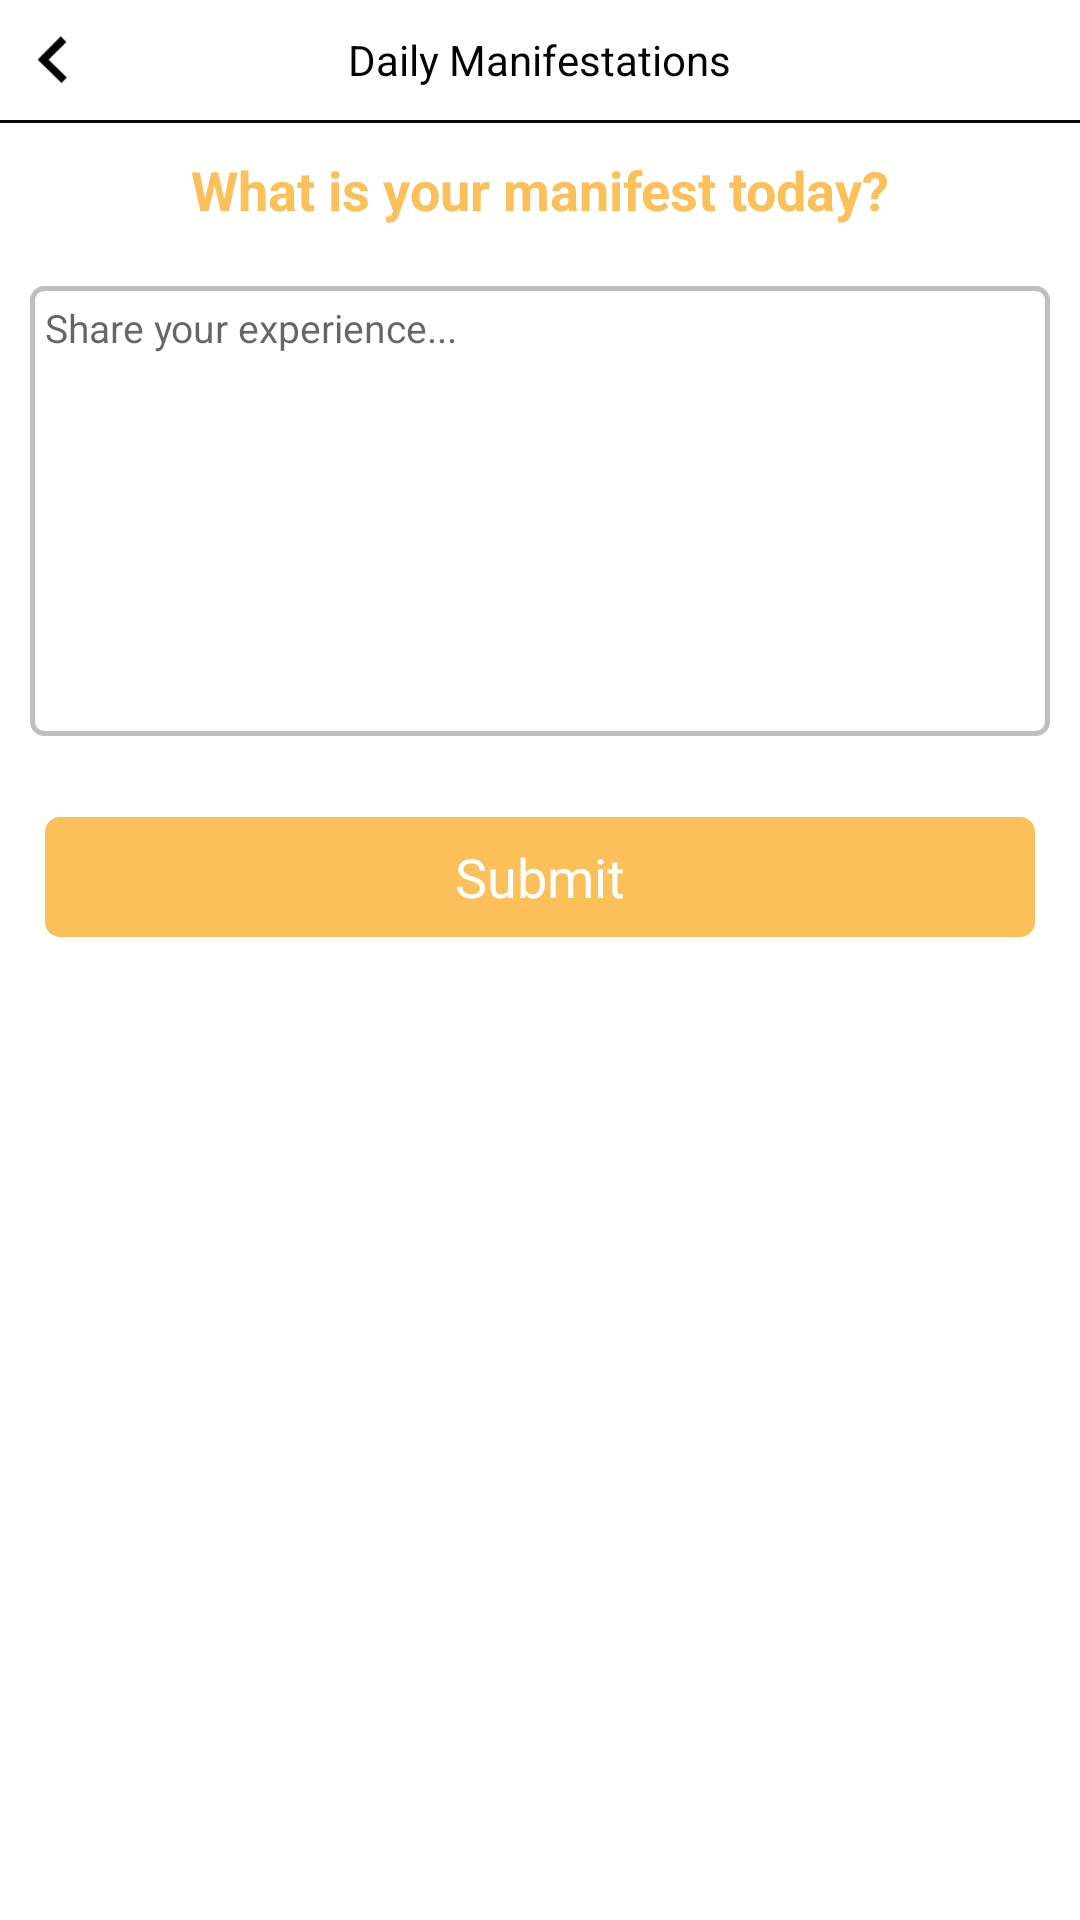

Named icons in this screenshot (1080 × 1920) and their centers, (x=x, y=y):
back arrow: (x=52, y=59)
